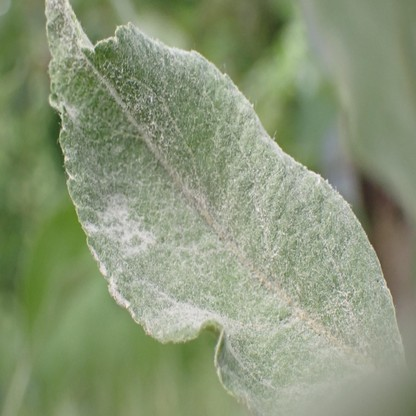powder: (45, 1, 411, 416)
